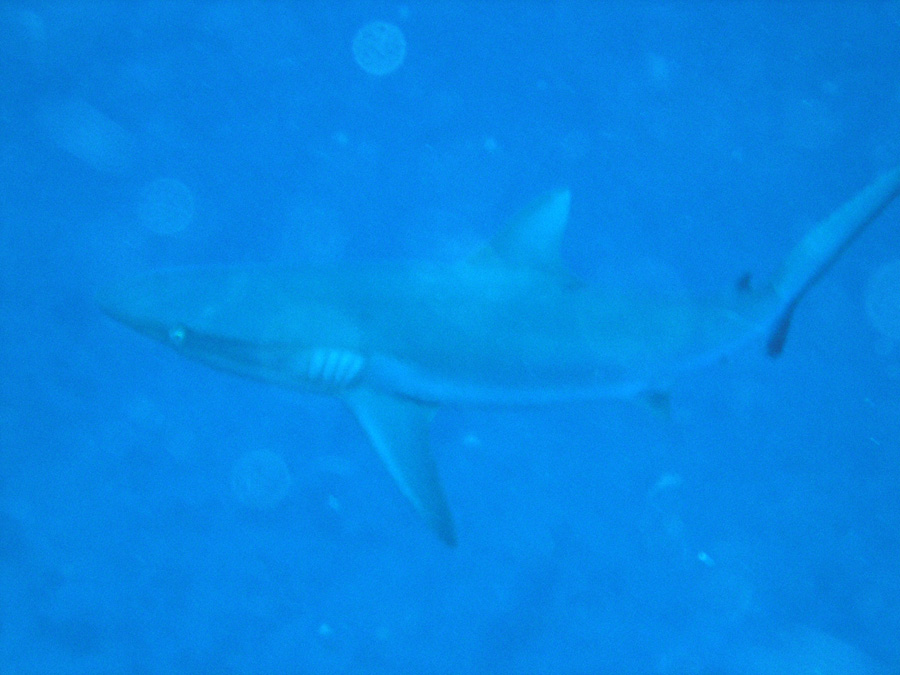Carcharhinus_amblyrhynchos: (70, 155, 900, 548)
